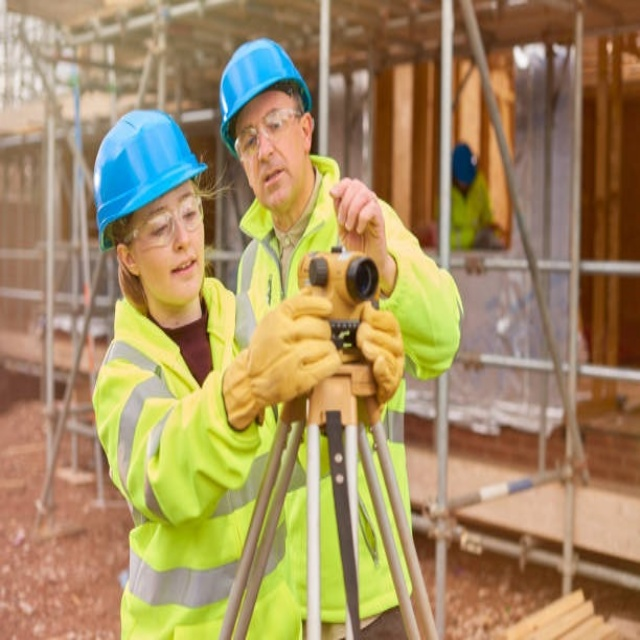Gafas: (120, 190, 204, 249), (235, 107, 307, 165)
Guantes: (223, 294, 343, 428), (353, 301, 406, 412)
Sin_guantes: (328, 175, 387, 270)
Sin_mascara: (158, 249, 206, 298), (249, 163, 297, 205)
